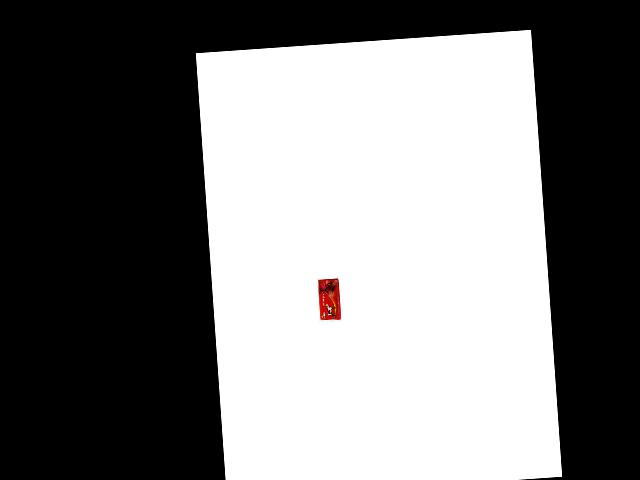chocolate: (317, 277, 343, 322)
